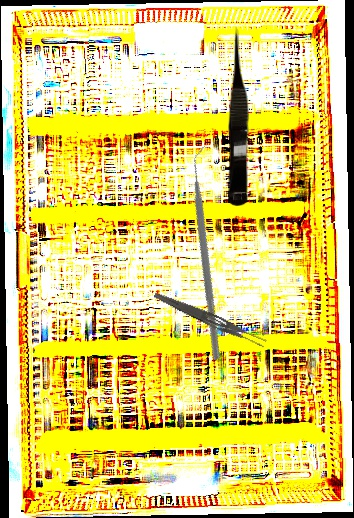Chopper: (106, 144, 316, 361)
Dressing Forceps: (151, 289, 268, 351)
Micro Scissor: (228, 26, 252, 206)
